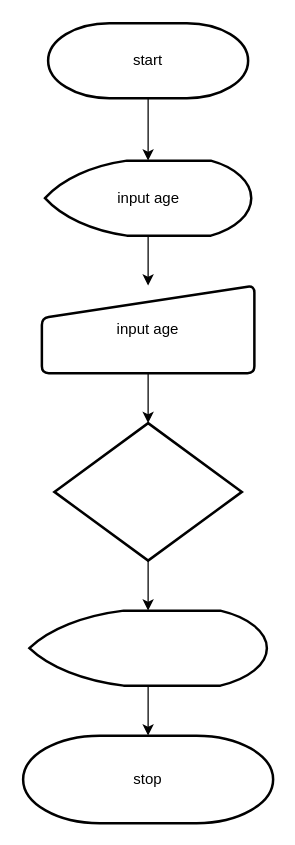
The diagram is 295 pixels wide and 845 high, and some of its shapes have lost their labels. Each missing label, with the centre of its shape:
"You are an adult": pixel 148 647
age>=18?: pixel 147 491
